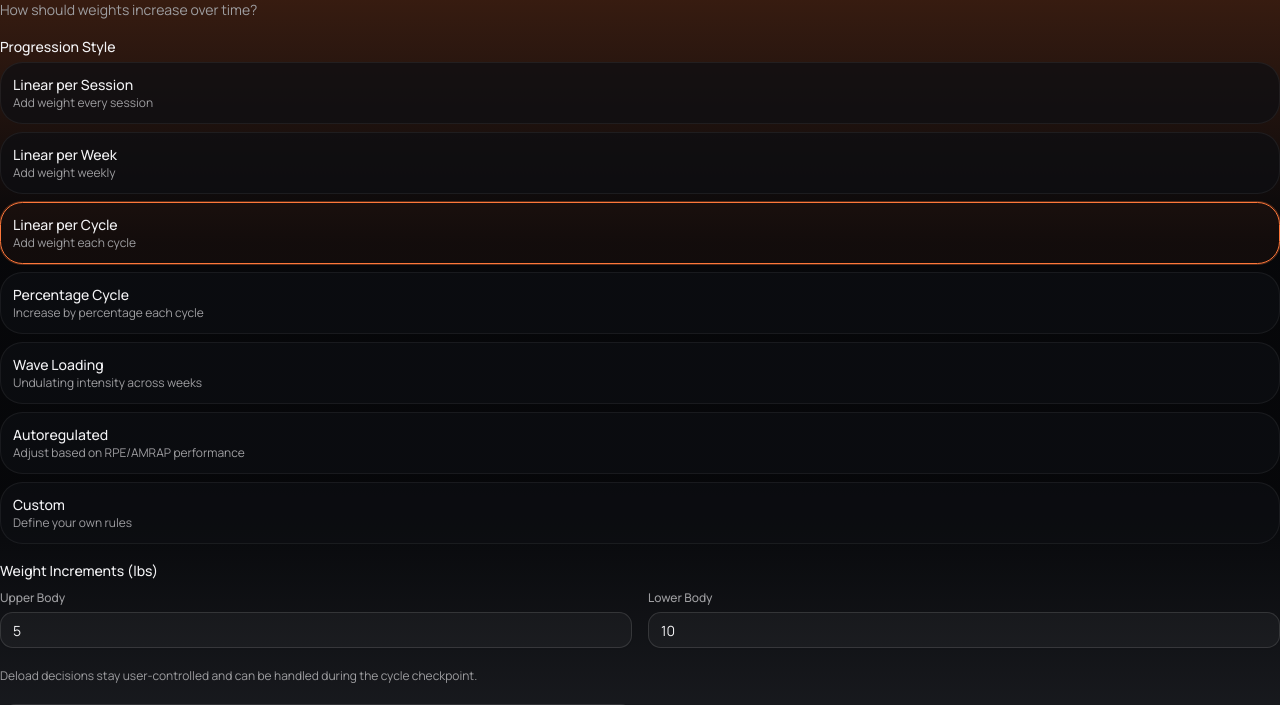
Test: ProgressionStep › preserves custom linear increments when switching to a non-linear style and back
Replace the text in the number field labelled "Upper Body" with "7.5" at (316, 630), box [0,612,632,648]
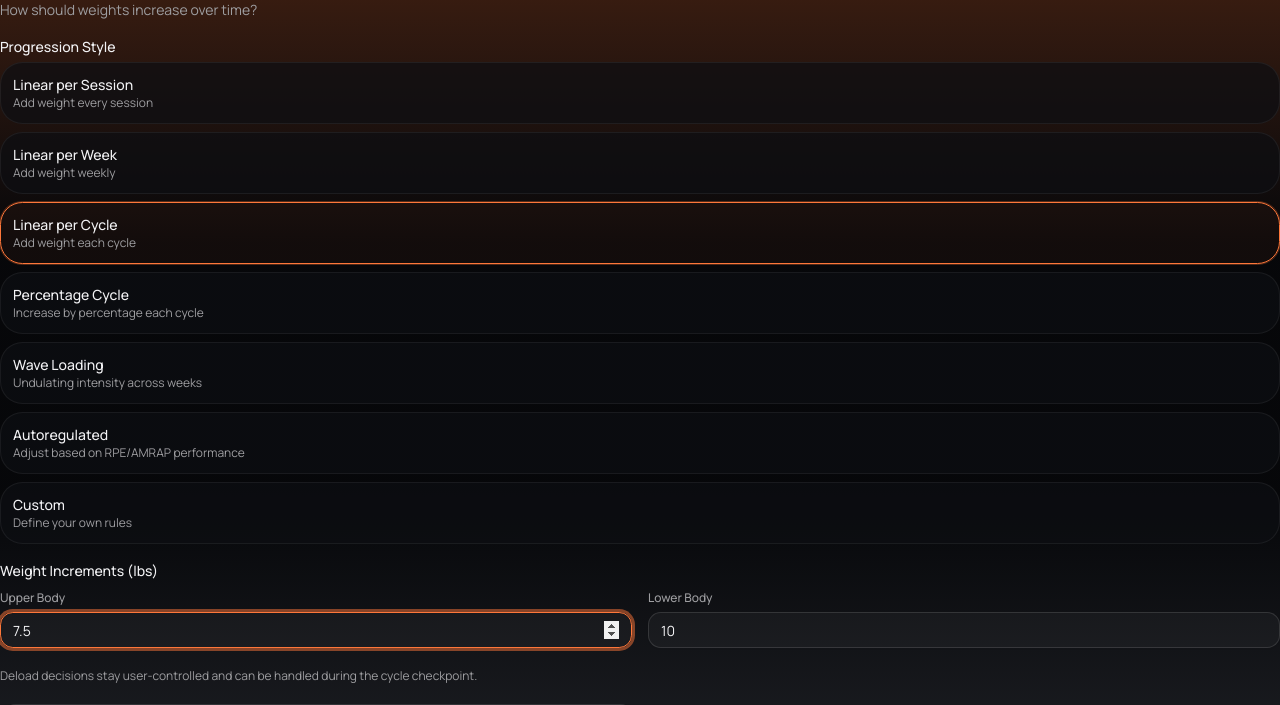
Replace the text in the number field labelled "Lower Body" with "15" at (964, 630), box [648,612,1279,648]
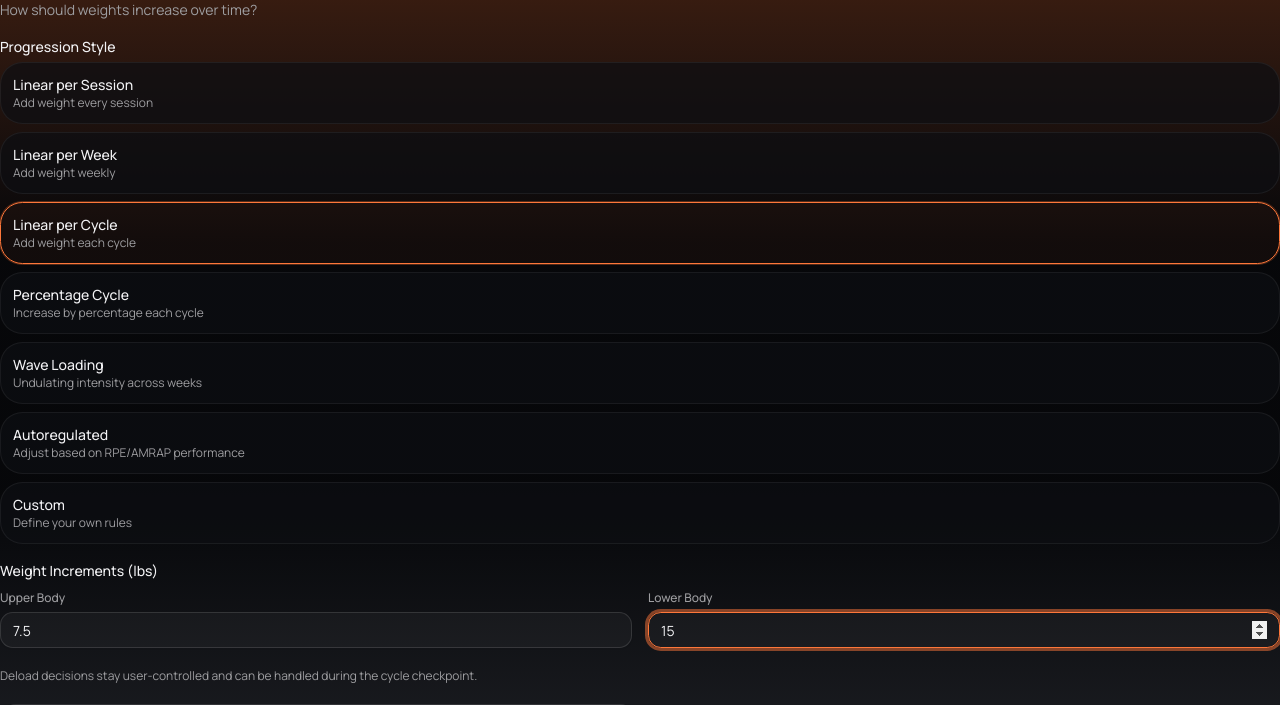
Click the radio button labelled "Wave Loading Undulating intensity across weeks" at (58, 364), box [0,342,1279,404]
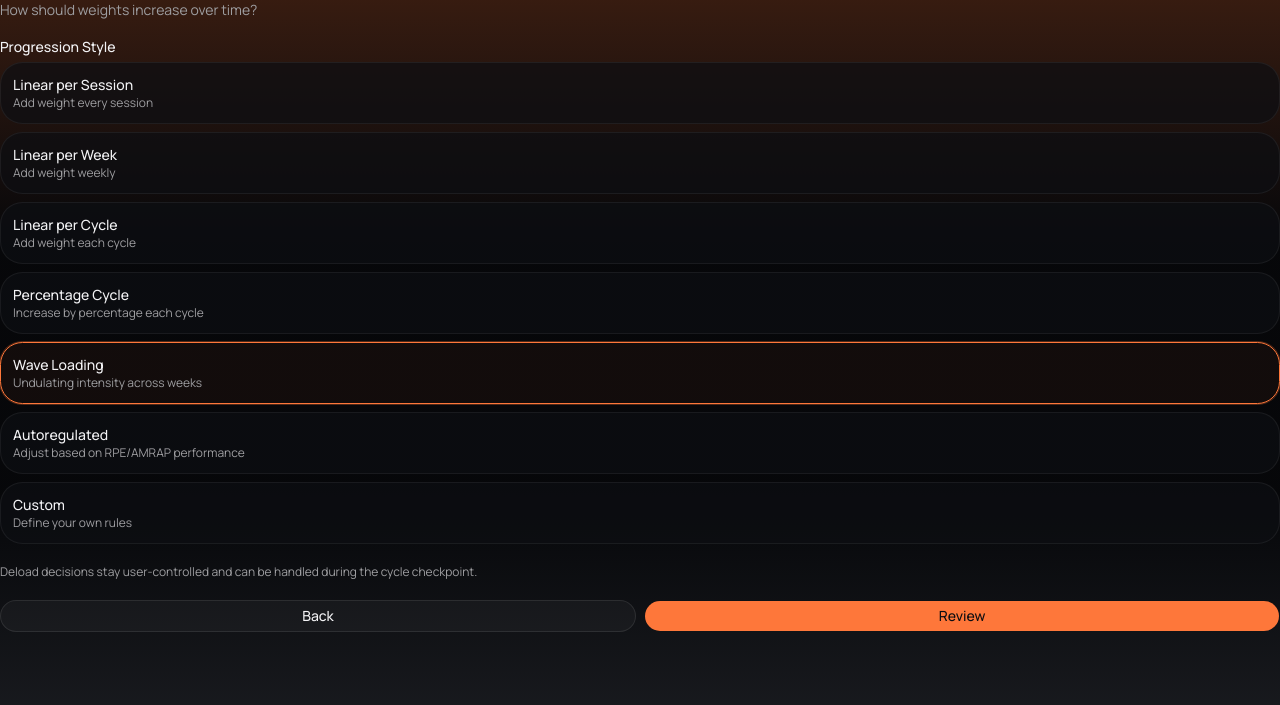
Expected: the label labelled "Upper Body" is gone
Click the radio button labelled "Linear per Week Add weight weekly" at (65, 154), box [0,132,1279,194]
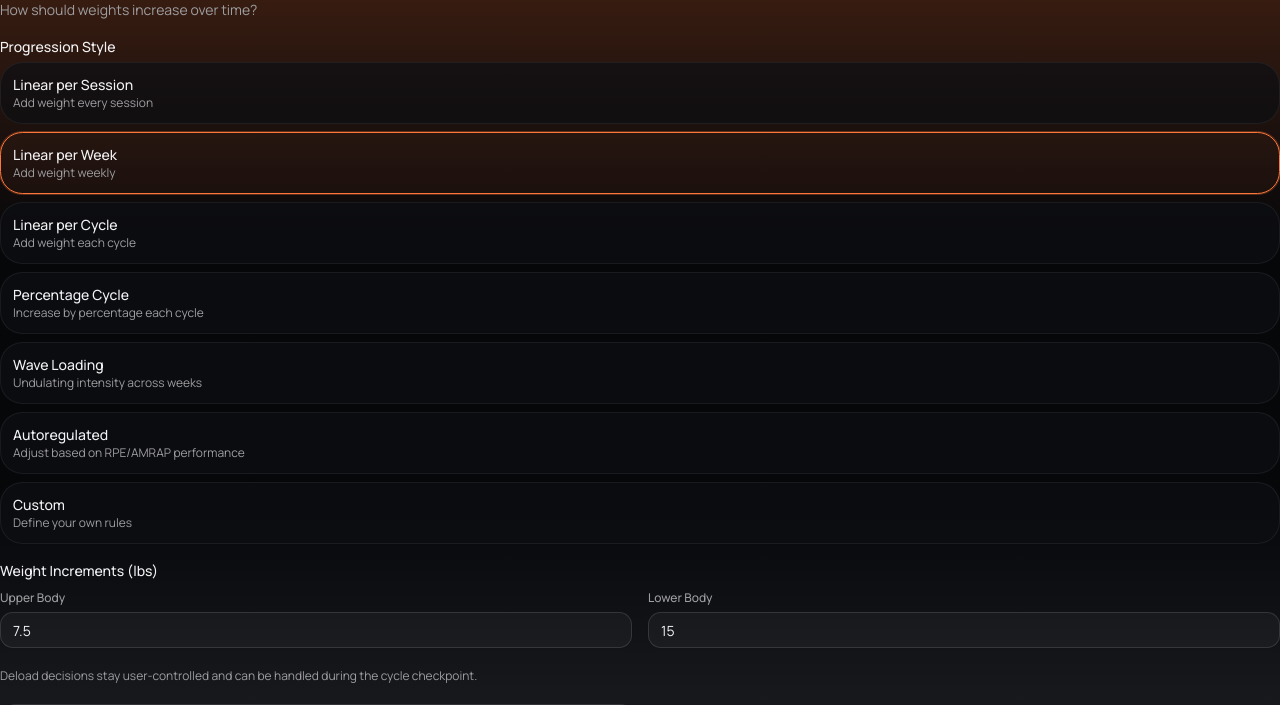
Expected: the number field labelled "Upper Body" holds "7.5", [0,612,632,648]
Expected: the number field labelled "Lower Body" holds "15", [648,612,1279,648]
